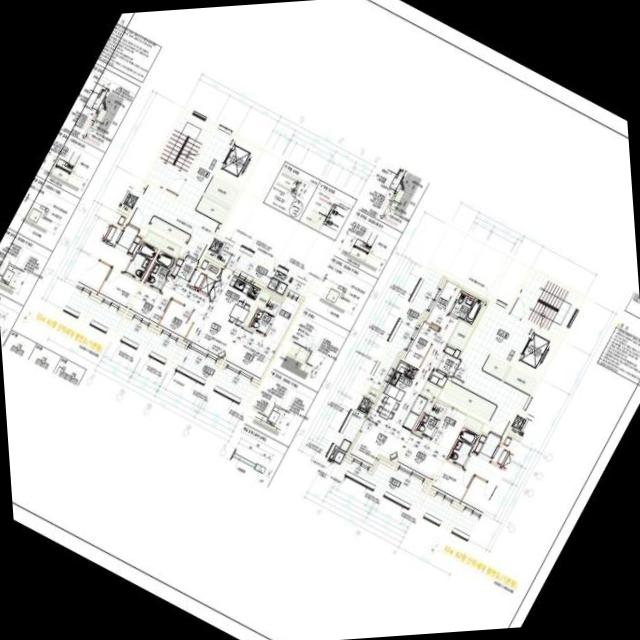background: (0, 0, 640, 640)
space_balconi: (115, 317, 257, 403), (327, 394, 425, 508), (361, 267, 442, 396), (206, 236, 310, 298)
space_bedroom: (223, 326, 279, 381), (395, 431, 447, 482), (423, 276, 461, 328), (127, 283, 170, 326), (157, 299, 196, 340), (402, 321, 437, 366)
space_dressroom: (264, 295, 302, 346), (429, 404, 466, 450)
space_elevator: (216, 137, 260, 186), (515, 327, 558, 376)
space_elevator_hall: (127, 126, 233, 260), (450, 304, 531, 436)
space_front: (433, 343, 462, 376), (168, 254, 196, 285)
space_kitchen: (368, 359, 417, 427), (198, 268, 260, 315)
space_living_room: (344, 314, 458, 471), (159, 276, 246, 361)
space_other: (447, 298, 489, 350), (442, 381, 495, 420), (148, 216, 189, 244), (203, 176, 239, 206), (503, 366, 537, 394), (243, 290, 269, 326), (195, 195, 228, 223), (481, 354, 509, 379), (420, 381, 440, 412), (198, 255, 223, 277), (187, 269, 205, 289), (160, 239, 179, 257), (428, 369, 447, 387), (104, 224, 121, 244), (366, 388, 376, 399), (140, 183, 146, 193), (214, 223, 220, 233)
space_staircase: (146, 110, 211, 194), (510, 271, 580, 336)
space_toilet: (142, 250, 175, 290), (247, 297, 280, 335), (448, 289, 483, 324), (413, 401, 446, 438)
